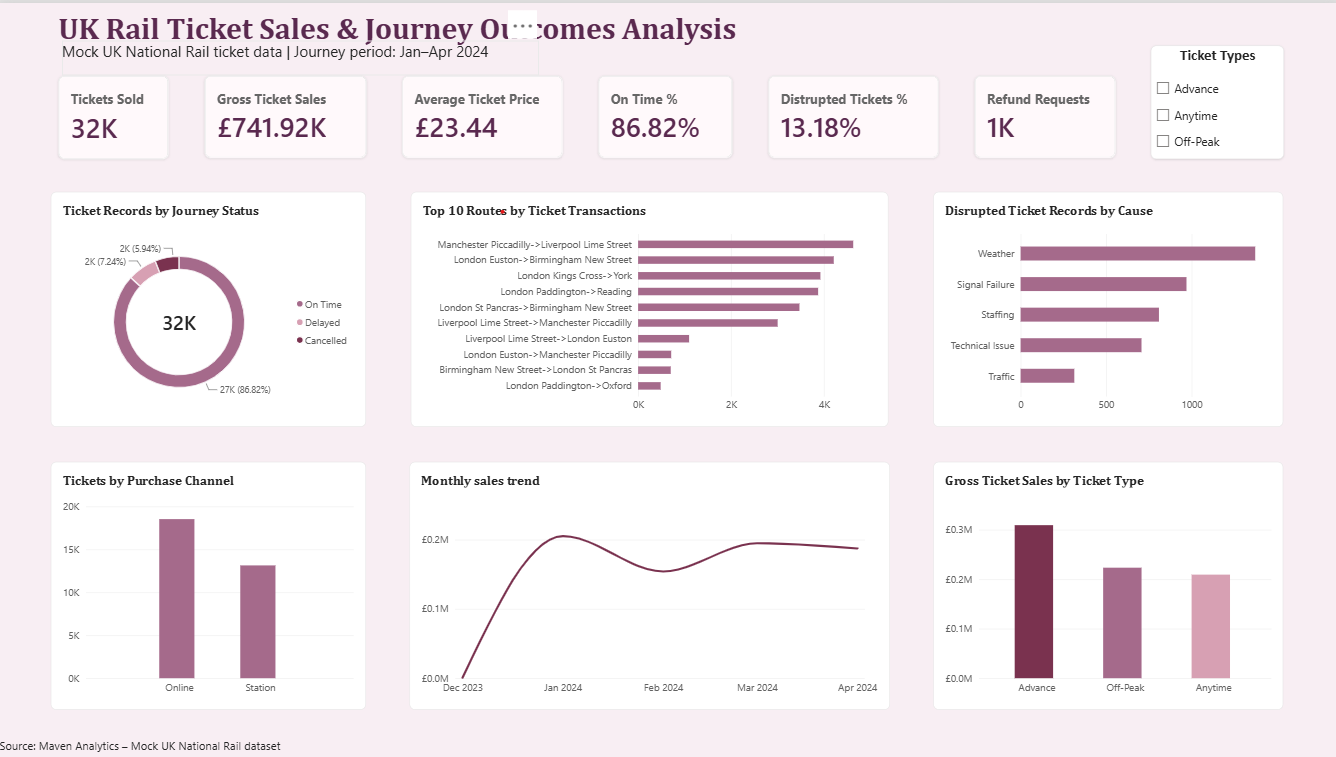

The page's visual inventory and layout, read from the dashboard file:
{"tool":"powerbi","page":{"name":"Page 1","canvas":[1920,1080],"ordinal":0},"visuals":[{"type":"donutChart","title":"Ticket Records by Journey Status","fields":{"Category":["TrainTickets.Journey Status"],"Y":["TrainTickets.Tickets Sold"]},"box":[77.6,268.8,450,336],"z":0},{"type":"clusteredBarChart","title":"Top 10 Routes by Ticket Transactions","fields":{"Category":["TrainTickets.Route"],"Y":["TrainTickets.Tickets Sold"]},"box":[591.6,268.8,682,336],"z":1000},{"type":"columnChart","title":"Gross Ticket Sales by Ticket Type","fields":{"Category":["TrainTickets.Ticket Type"],"Y":["TrainTickets.Gross Ticket Sales"]},"box":[1337.6,654.8,500,354],"z":2000},{"type":"cardVisual","fields":{"Data":["TrainTickets.Average Ticket Price"]},"box":[578.7,104,230,118],"z":3000},{"type":"columnChart","title":"Tickets by Purchase Channel","fields":{"Category":["TrainTickets.Purchase Type"],"Y":["TrainTickets.Tickets Sold"]},"box":[77.6,654.8,450,354],"z":4000},{"type":"cardVisual","fields":{"Data":["TrainTickets.Tickets Sold"]},"box":[88,104,158,120],"z":5000},{"type":"cardVisual","fields":{"Data":["TrainTickets.Gross Ticket Sales"]},"box":[296.3,104,232,118],"z":6000},{"type":"cardVisual","fields":{"Data":["TrainTickets.On Time %"]},"box":[859,104,192,118],"z":7000},{"type":"cardVisual","fields":{"Data":["TrainTickets.Distrupted Tickets %"]},"box":[1101.3,104,244,118],"z":8000},{"type":"cardVisual","fields":{"Data":["TrainTickets.Refund Requests"]},"box":[1395.7,104,202,118],"z":9000},{"type":"lineChart","title":"Monthly sales trend","fields":{"Category":["TrainTickets.Date of Purchase.Variation.Date Hierarchy.Year","TrainTickets.Date of Purchase.Variation.Date Hierarchy.Month"],"Y":["TrainTickets.Gross Ticket Sales"]},"box":[589.6,654.8,686,354],"z":10000},{"type":"clusteredBarChart","title":"Disrupted Ticket Records by Cause","fields":{"Category":["TrainTickets.Reason for Delay"],"Y":["TrainTickets.Tickets Sold"]},"box":[1337.6,268.8,500,336],"z":11000},{"type":"slicer","title":"Ticket Types","fields":{"Values":["TrainTickets.Ticket Type"]},"box":[1648,60,190,162],"z":12000},{"type":"textbox","box":[88,11.2,1008,60],"z":12001},{"type":"textbox","box":[92,54,682,50],"z":12002},{"type":"textbox","box":[4,1050,448,30],"z":12003}]}

Visuals, with their boxes in screenshot pixels (x1, y1, x2, y2), scaled from the page's 1920x1080 canvas onto the 1336x757 screenshot:
"Ticket Records by Journey Status" donutChart: {"left": 54, "top": 188, "right": 367, "bottom": 424}
"Top 10 Routes by Ticket Transactions" clusteredBarChart: {"left": 412, "top": 188, "right": 886, "bottom": 424}
"Gross Ticket Sales by Ticket Type" columnChart: {"left": 931, "top": 459, "right": 1279, "bottom": 707}
cardVisual - TrainTickets.Average Ticket Price: {"left": 403, "top": 73, "right": 563, "bottom": 156}
"Tickets by Purchase Channel" columnChart: {"left": 54, "top": 459, "right": 367, "bottom": 707}
cardVisual - TrainTickets.Tickets Sold: {"left": 61, "top": 73, "right": 171, "bottom": 157}
cardVisual - TrainTickets.Gross Ticket Sales: {"left": 206, "top": 73, "right": 368, "bottom": 156}
cardVisual - TrainTickets.On Time %: {"left": 598, "top": 73, "right": 731, "bottom": 156}
cardVisual - TrainTickets.Distrupted Tickets %: {"left": 766, "top": 73, "right": 936, "bottom": 156}
cardVisual - TrainTickets.Refund Requests: {"left": 971, "top": 73, "right": 1112, "bottom": 156}
"Monthly sales trend" lineChart: {"left": 410, "top": 459, "right": 888, "bottom": 707}
"Disrupted Ticket Records by Cause" clusteredBarChart: {"left": 931, "top": 188, "right": 1279, "bottom": 424}
"Ticket Types" slicer: {"left": 1147, "top": 42, "right": 1279, "bottom": 156}
textbox: {"left": 61, "top": 8, "right": 763, "bottom": 50}
textbox: {"left": 64, "top": 38, "right": 539, "bottom": 73}
textbox: {"left": 3, "top": 736, "right": 315, "bottom": 756}
